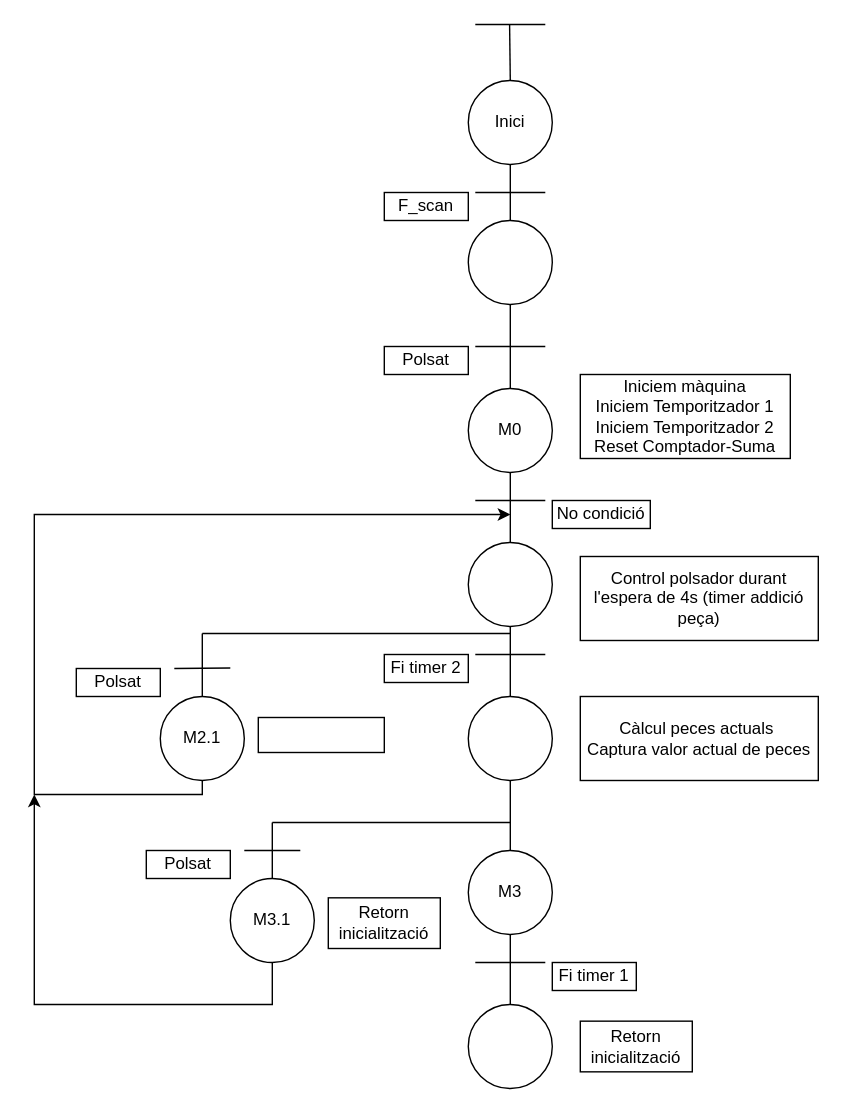
The diagram is 843 pixels wide and 1113 high, and some of its shapes have lost their labels. Here are the shapes that lost their labels. From the top down, the box of each, then its label:
(467, 219, 552, 304): Espera
(467, 541, 552, 626): M1
(257, 716, 384, 752): Sumar peça
(467, 695, 552, 780): M2
(467, 1003, 552, 1088): M4
